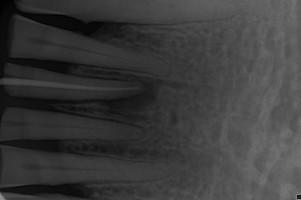Furcation Involvement: (103, 75, 161, 123)
